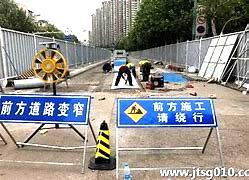sign: (117, 97, 217, 127), (1, 95, 86, 122)
